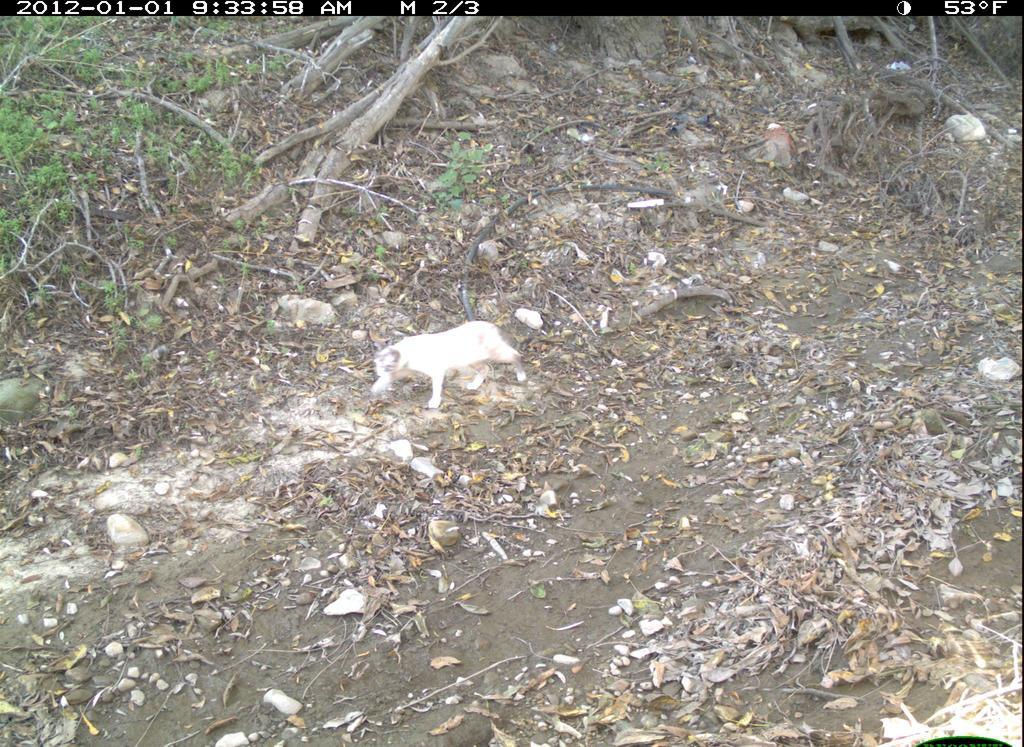cat: (349, 296, 548, 431)
